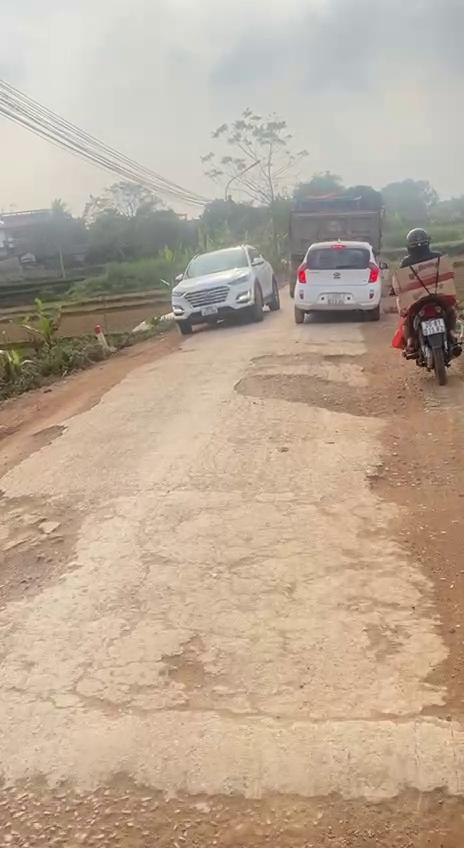pothole: (0, 776, 464, 848), (0, 488, 88, 618), (233, 350, 384, 421), (0, 420, 76, 482), (159, 636, 219, 709), (368, 452, 438, 506), (352, 612, 406, 666)
